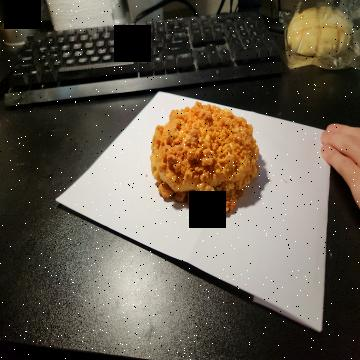soboru_bread: (152, 103, 261, 217)
